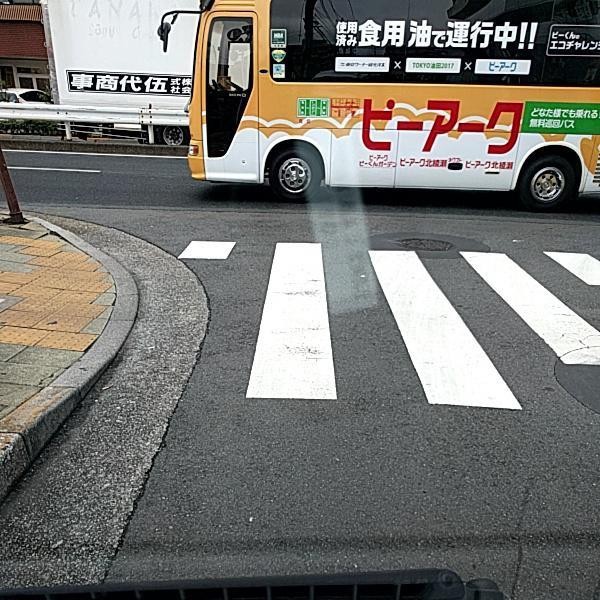D50: (397, 237, 454, 254)
